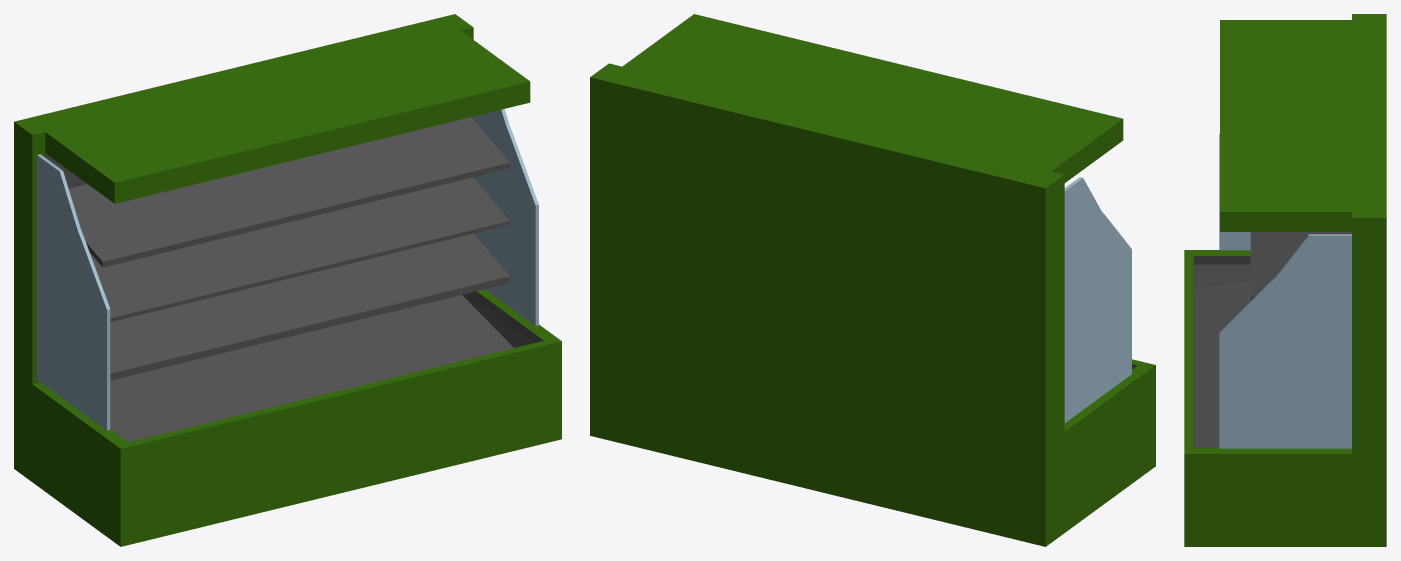
File: SupermarketVegetableDisplay.glb
The picture shows the model from 3 angles, left to right: view 1: azimuth 30°, elevation 25°; view 2: azimuth 150°, elevation 25°; view 3: azimuth 270°, elevation 25°; orthographic projection. The views are drawn at different scales.
Parts seen in each view (by area): view 1: VegetableFridge; view 2: VegetableFridge; view 3: VegetableFridge.
Boxes of the visible parts, x1,y1,x2,y2 form: VegetableFridge: (14, 14, 561, 546); VegetableFridge: (590, 14, 1155, 546); VegetableFridge: (1184, 14, 1386, 546).
Size of the model in its own units: 2.41 by 1.81 by 1.01.
Materials: 1 (1 with a texture image).
